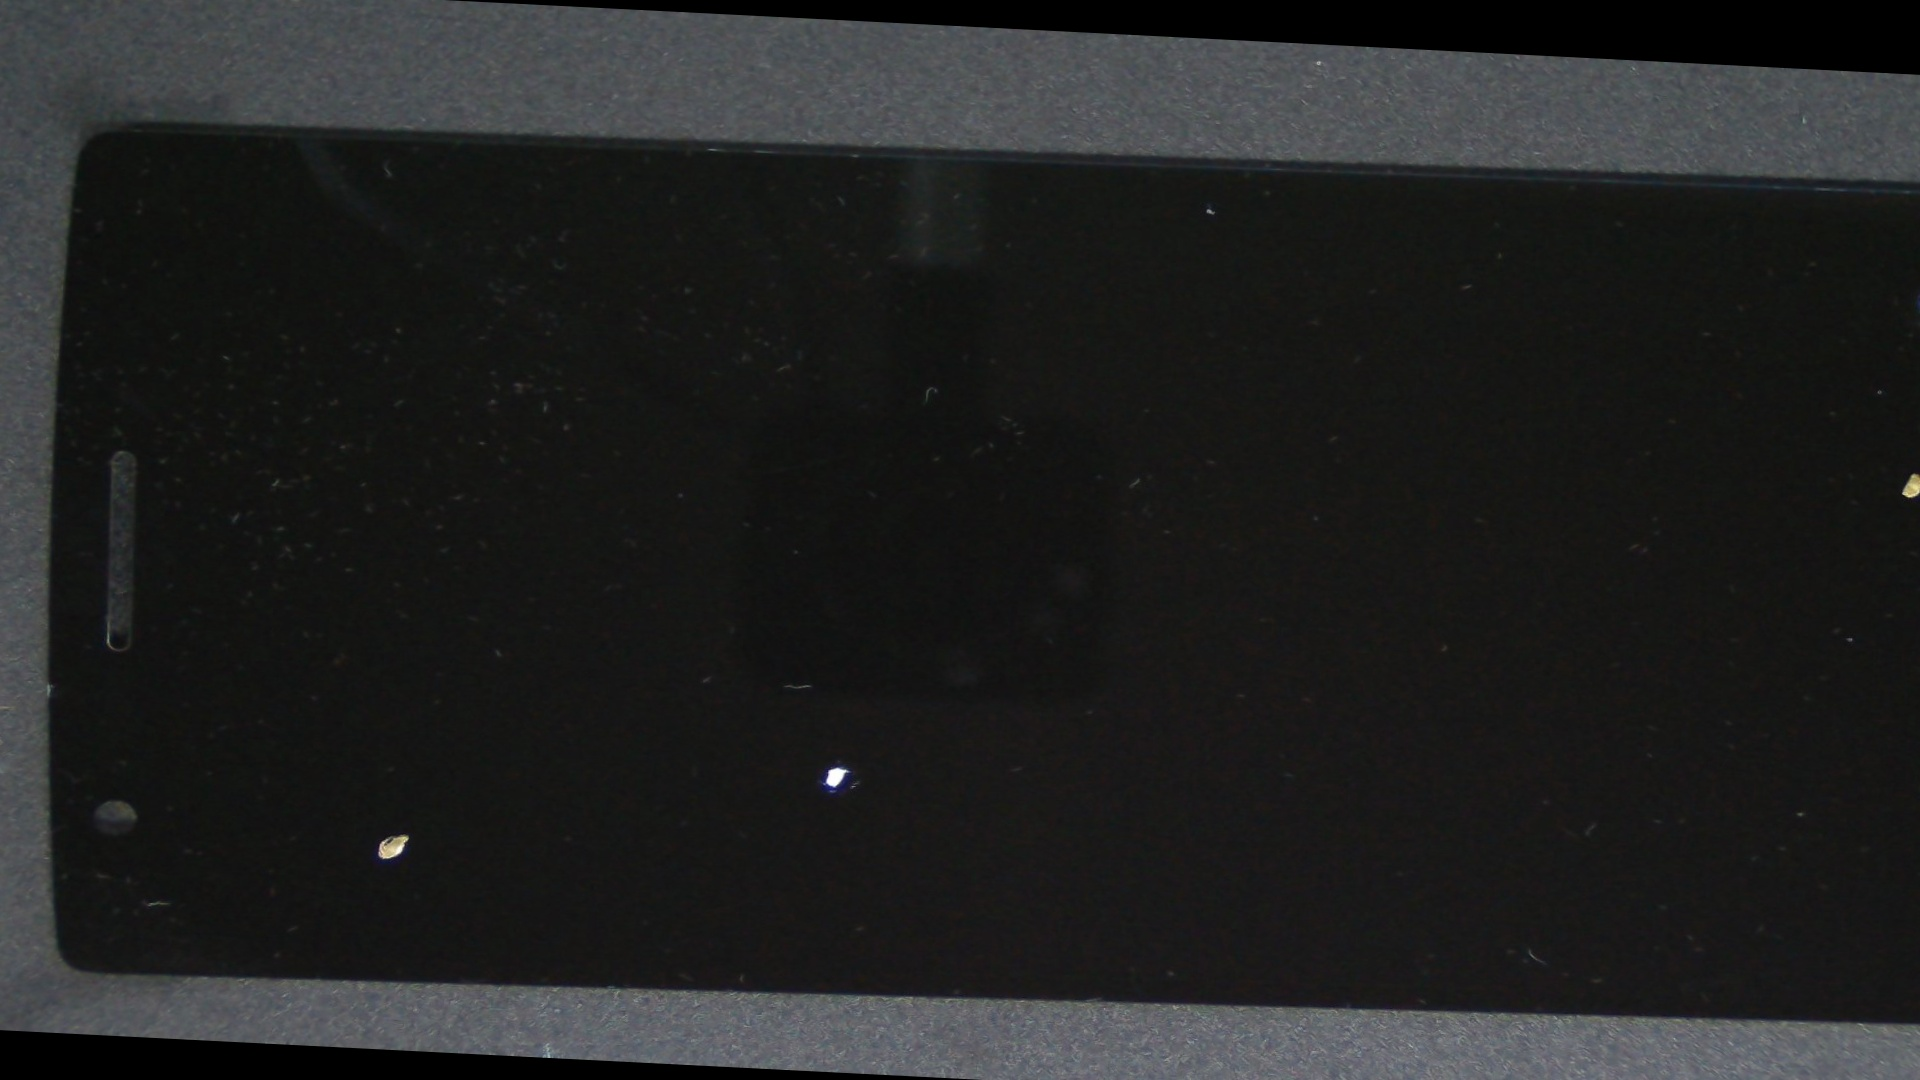oil: (367, 377, 1345, 1080), (359, 369, 1321, 1080), (911, 223, 1920, 683), (144, 404, 673, 1063), (927, 132, 1920, 410)
